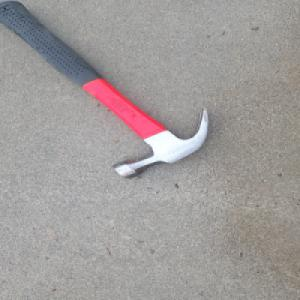Hammer: (0, 1, 213, 179)
